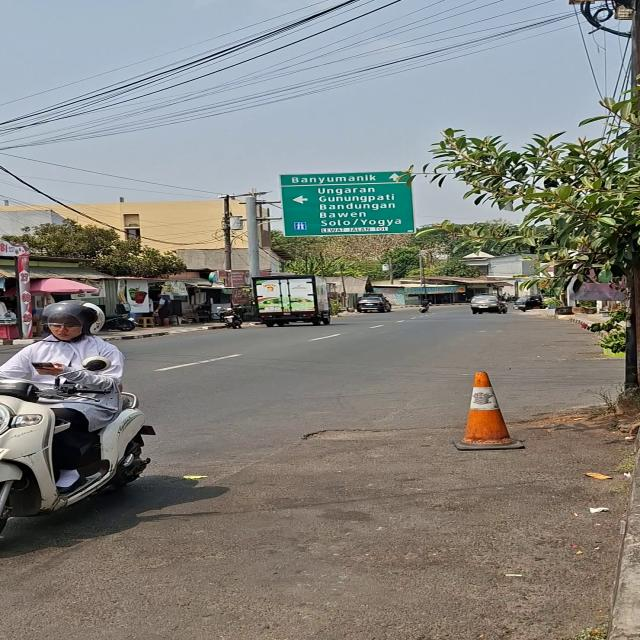WithHelmet: (0, 301, 129, 498), (419, 298, 433, 311)
